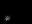person: (4, 17, 11, 22)
